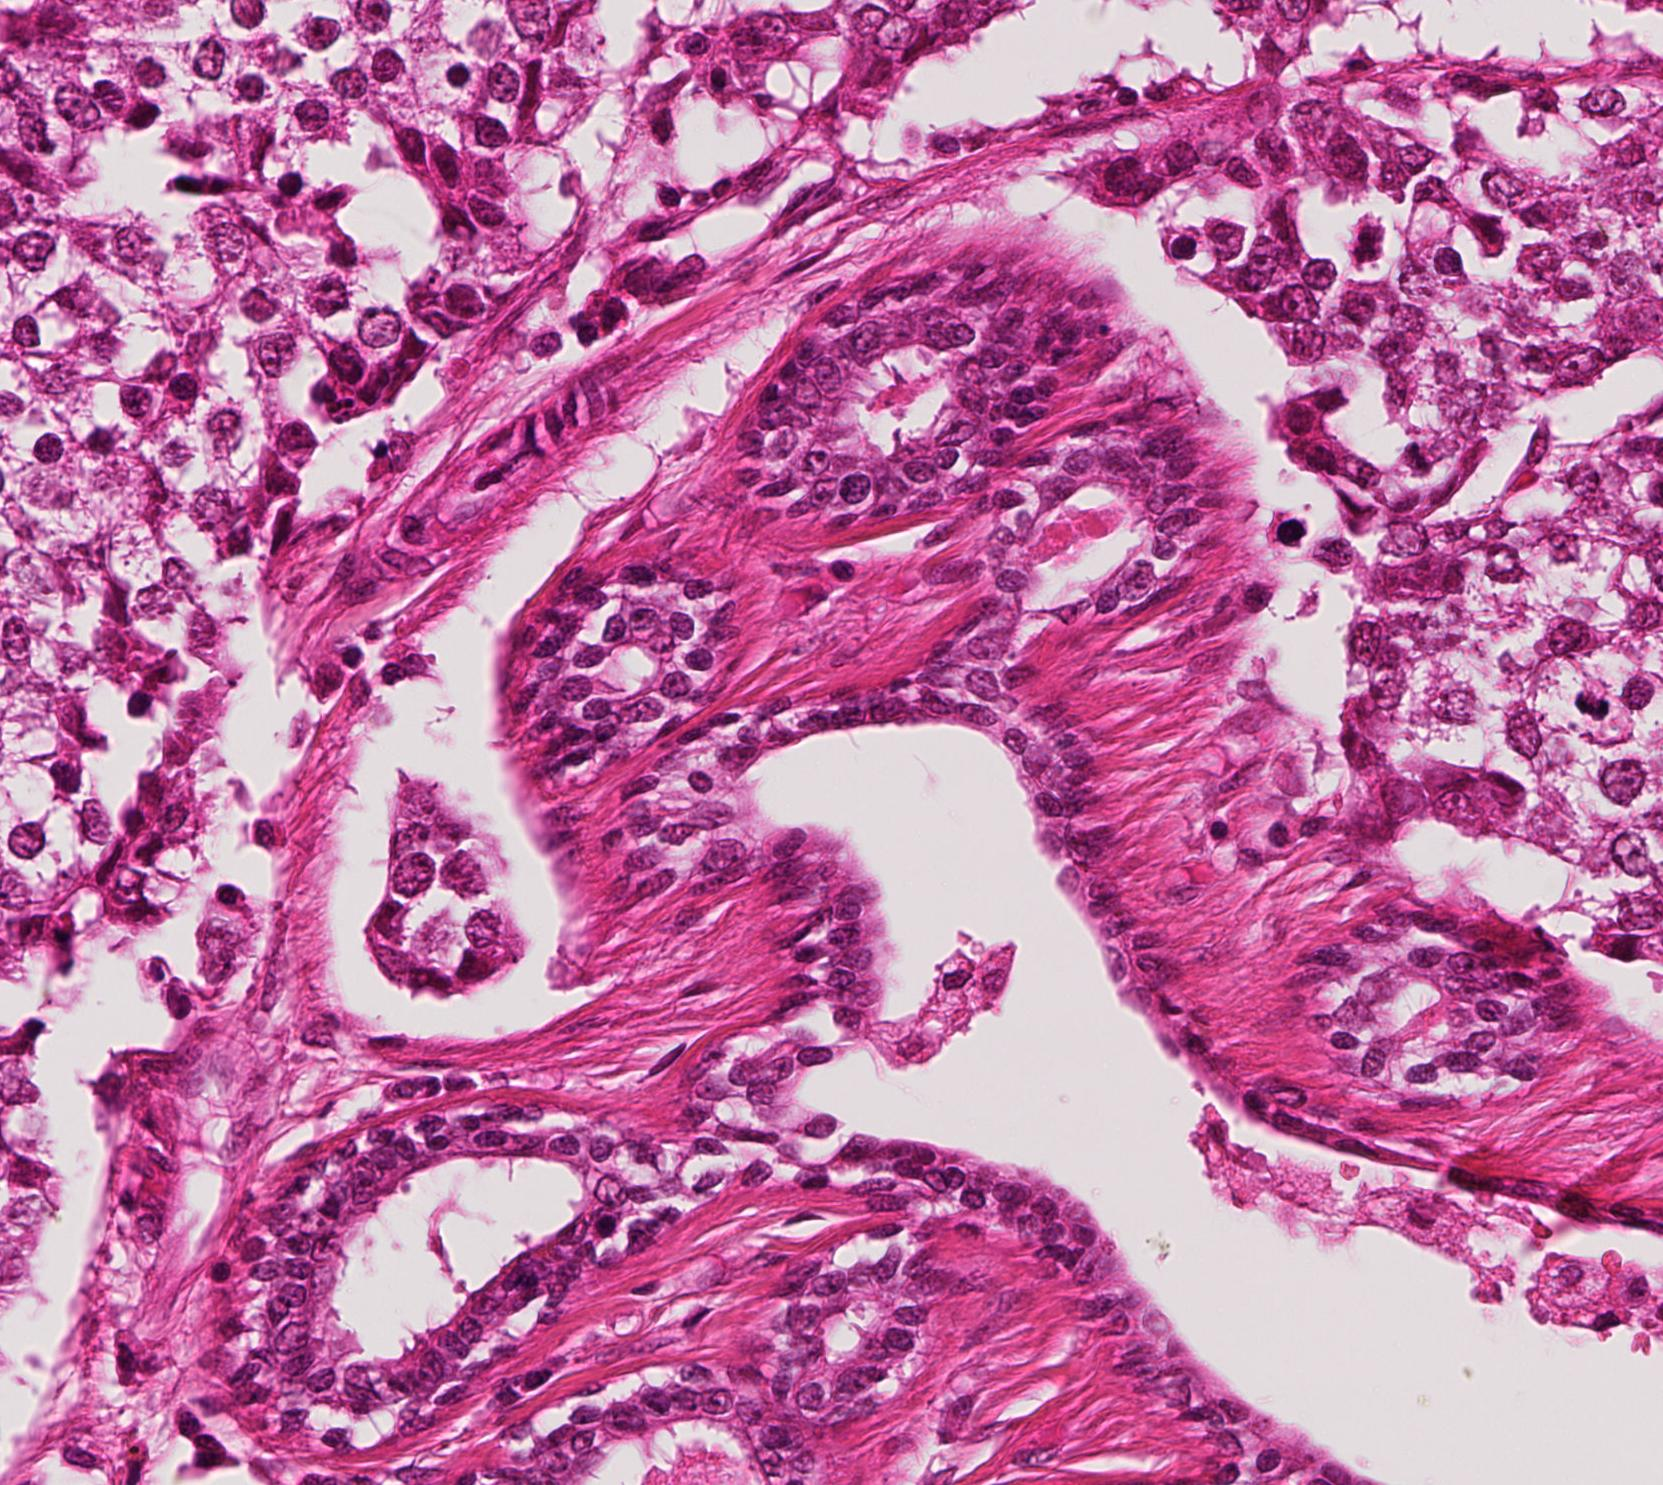mitosis: (1554, 674, 1614, 732)
